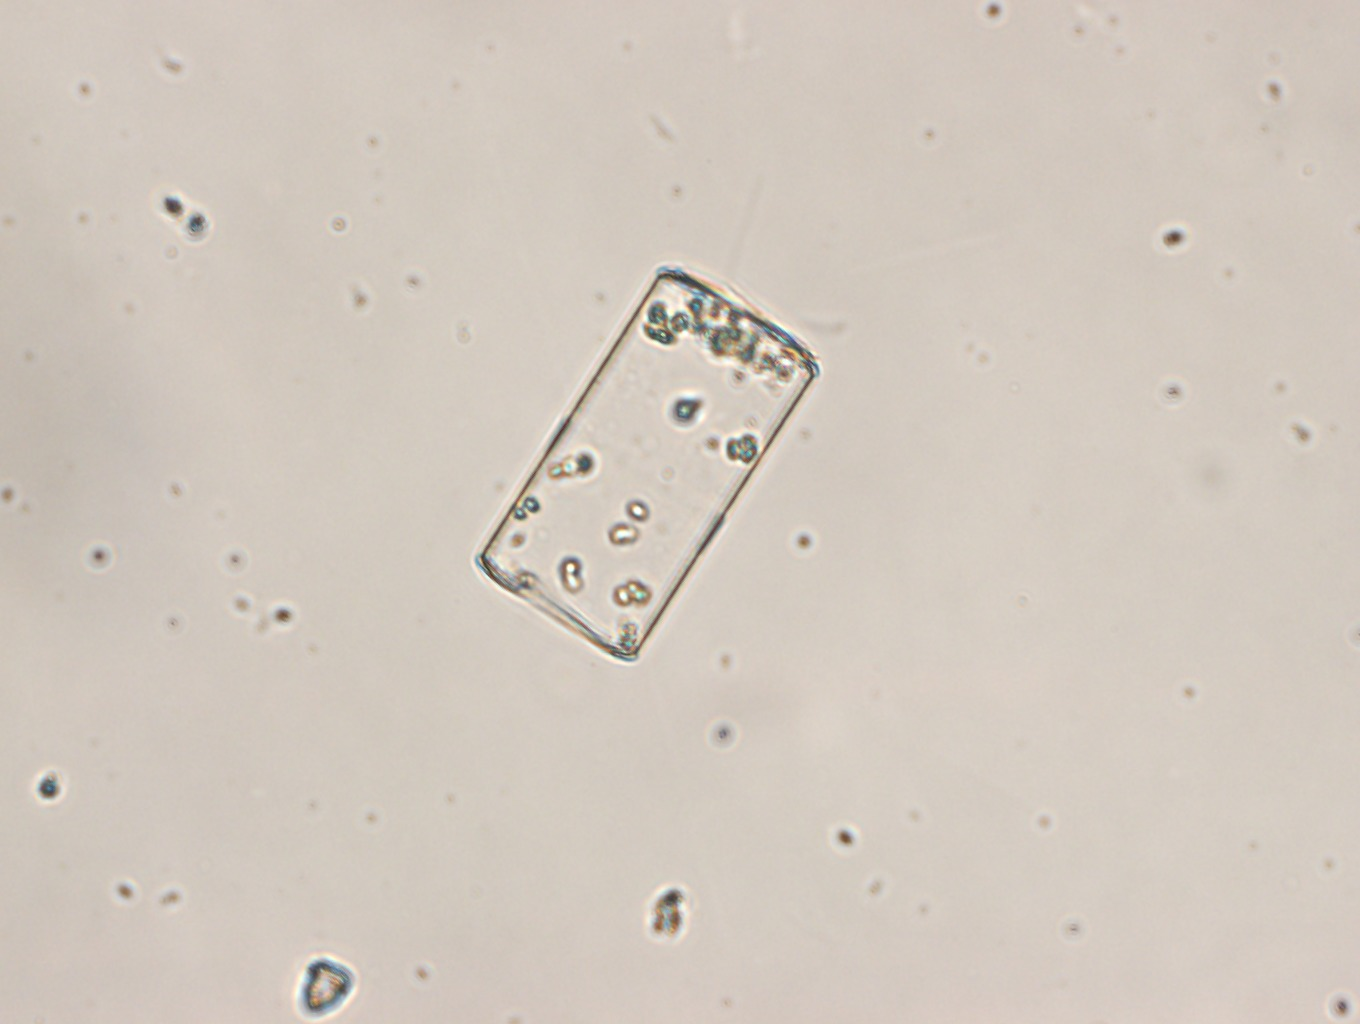guinardia flaccida: (475, 268, 820, 659)
